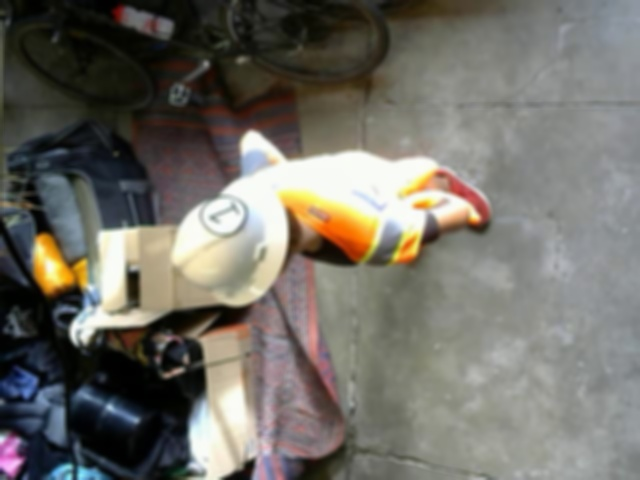one: (200, 196, 246, 235)
